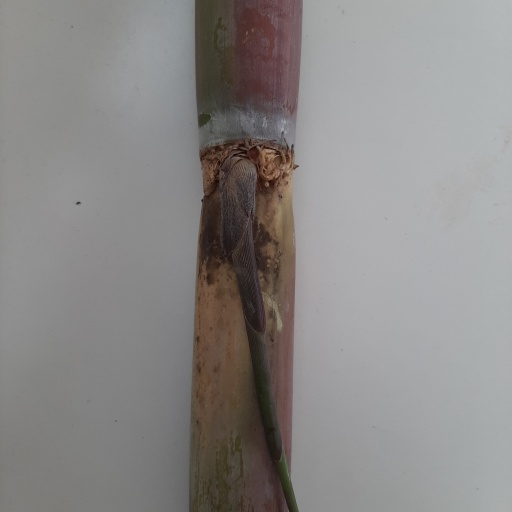Sprouted_Bud: (219, 150, 259, 256)
